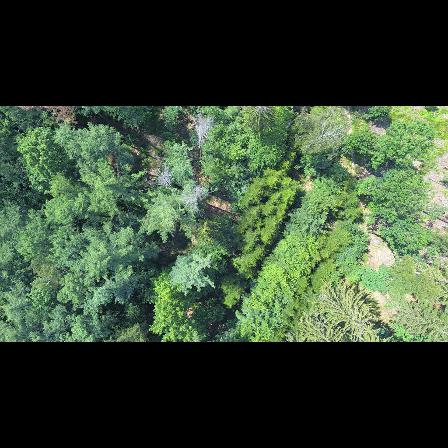Dead: (139, 165, 180, 191), (189, 112, 212, 154)
Sick: (247, 106, 274, 119)
